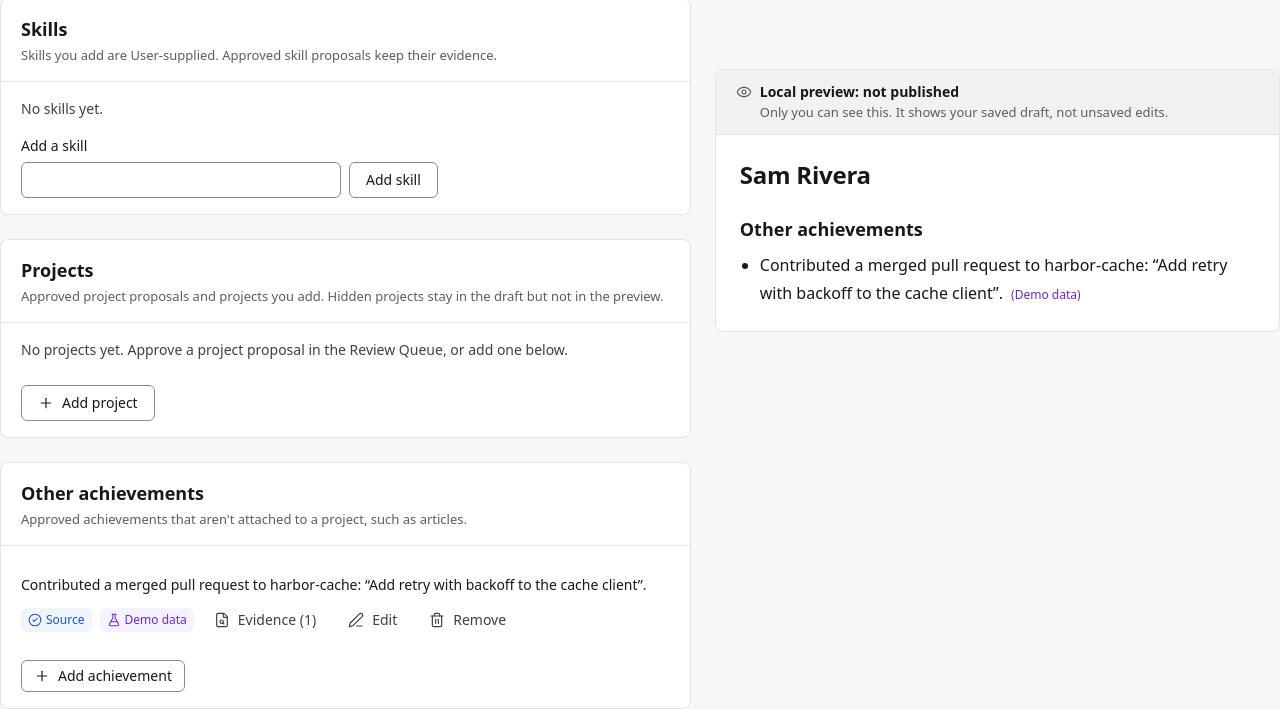
Test: PortfolioEditor (T6.1–T6.6) › editing a source claim marks it Edited from source and keeps evidence
(page scrolled)
Expected: the text "Source" is shown, [21,608,92,632]
Expected: the text "Demo data" is shown, [100,608,194,632]
Click the button with aria-label "Edit “" at (373, 620), box [336,604,409,636]
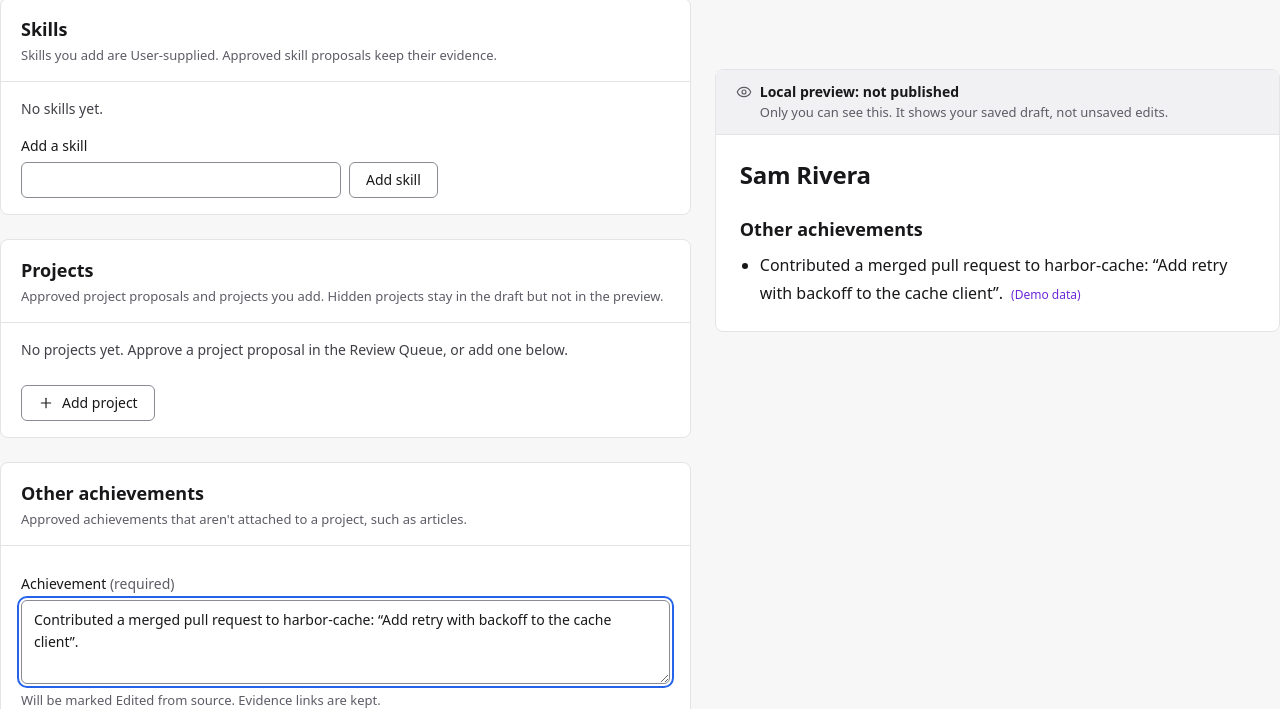
Expected: the text "Will be marked Edited from source. Evidence links are kept." is shown, [21,691,381,708]
Replace the text in the text box labelled "Achievement (required)" with "Added retries to a cache client." at (345, 642), box [21,600,670,684]
(page scrolled)
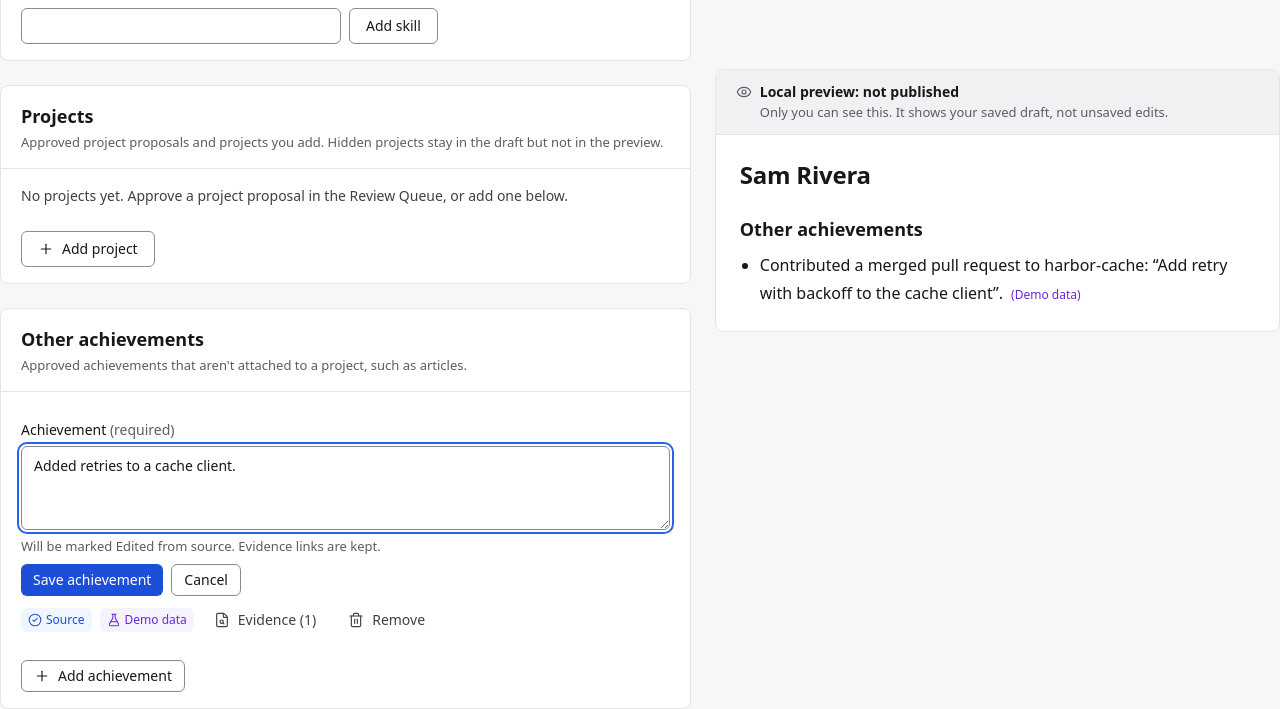
Click the button "Save achievement" at (92, 580), box [21,564,163,596]
(page scrolled)
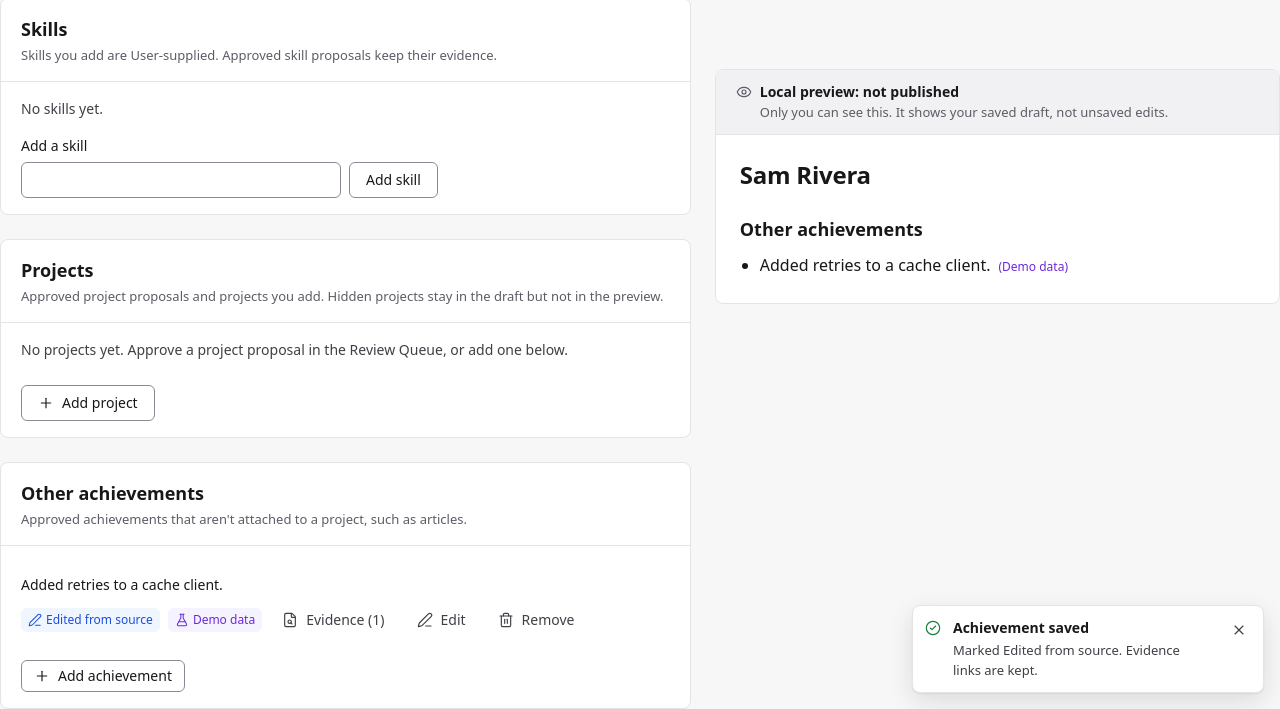
Expected: the text "Edited from source" is shown, [21,608,160,632]
